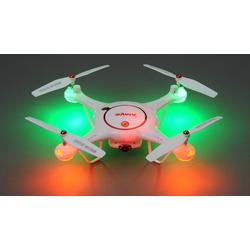drone: (24, 64, 225, 168)
